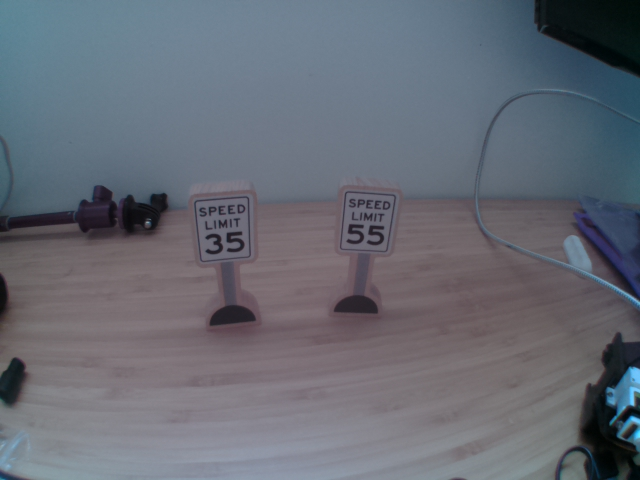Speed Limit 35: (190, 196, 254, 262)
Speed Limit 55: (339, 190, 392, 253)
